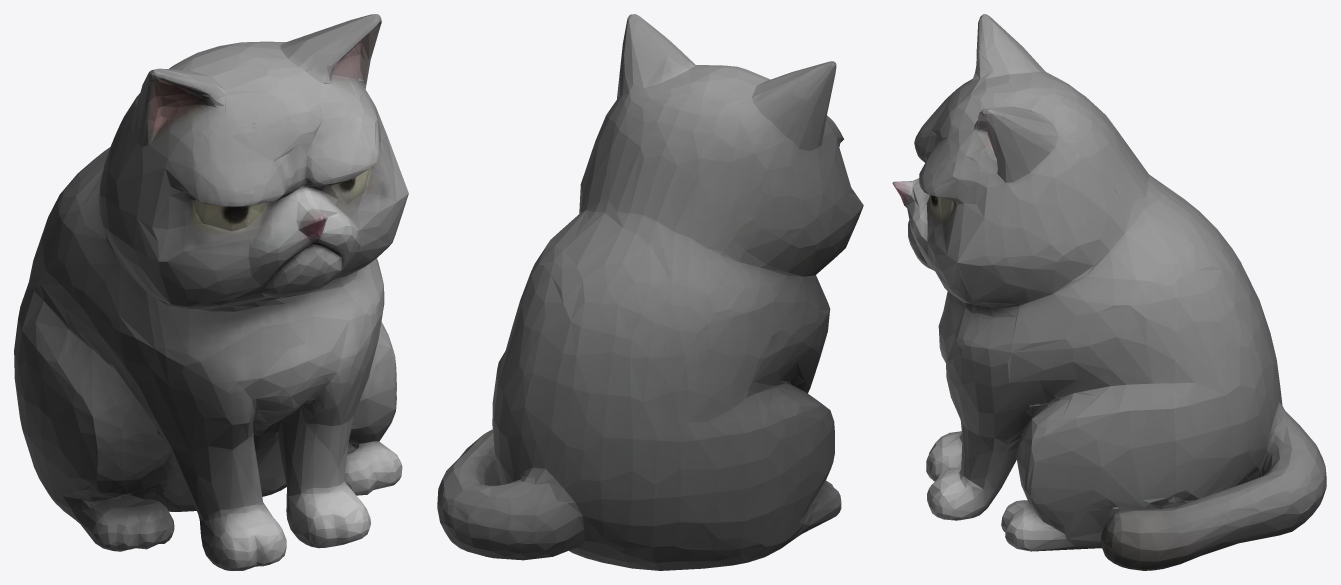
File: m-cat.glb
3 renders of one model, left to right at view 1: azimuth 30°, elevation 25°; view 2: azimuth 150°, elevation 25°; view 3: azimuth 270°, elevation 25°, orthographic. The views are drawn at different scales.
Visible parts, largest first — view 1: geometry_0; view 2: geometry_0; view 3: geometry_0.
Part boxes in pixels (bbox=[...]): geometry_0: bbox=[14, 14, 408, 570]; geometry_0: bbox=[437, 14, 863, 570]; geometry_0: bbox=[892, 14, 1326, 570].
Size of the model in its own units: 0.7587 by 0.9981 by 0.9124.
Materials: 1 (1 with a texture image).
